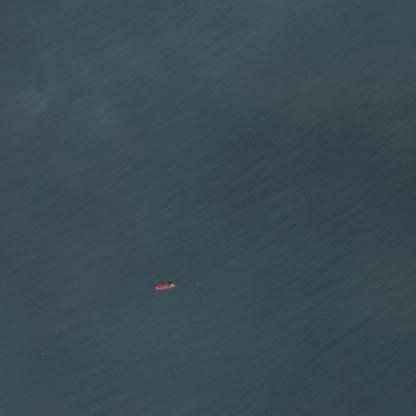ship: (146, 273, 184, 297)
